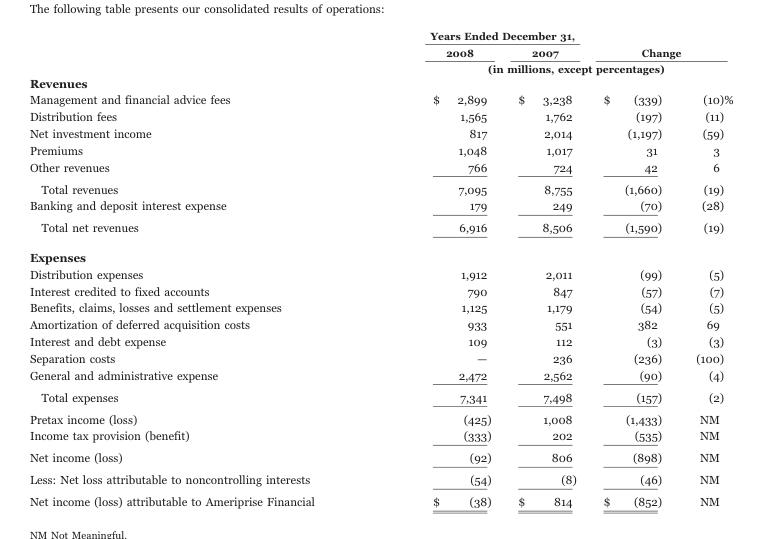table: (28, 29, 732, 507)
table column: (28, 29, 371, 507), (371, 29, 503, 507), (589, 29, 678, 507), (503, 29, 589, 507), (678, 29, 732, 507)
table column header: (28, 29, 732, 75)
table projected row header: (28, 242, 732, 265), (28, 75, 732, 90)
table row: (28, 216, 732, 242), (28, 242, 732, 265), (28, 385, 732, 407), (28, 446, 732, 468), (28, 468, 732, 490), (28, 196, 732, 216), (28, 426, 732, 446), (28, 158, 732, 177), (28, 177, 732, 196), (28, 366, 732, 385), (28, 407, 732, 426), (28, 43, 732, 60), (28, 90, 732, 107), (28, 107, 732, 124), (28, 124, 732, 141), (28, 141, 732, 158), (28, 265, 732, 282), (28, 298, 732, 315), (28, 315, 732, 332), (28, 332, 732, 349), (28, 349, 732, 366), (28, 490, 732, 507), (28, 282, 732, 298), (28, 60, 732, 75), (28, 75, 732, 90), (28, 29, 732, 43)
table spanning cell: (371, 60, 732, 75), (589, 29, 732, 60), (371, 29, 589, 43)
